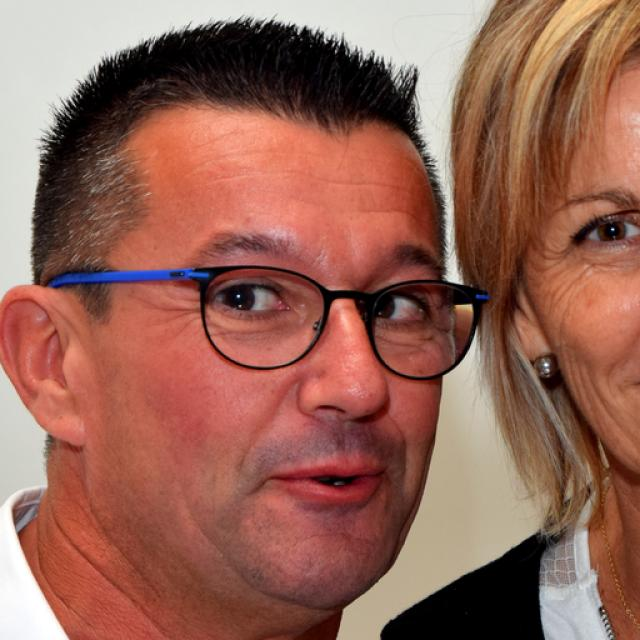Acne: (236, 213, 259, 231)
Wrinkle: (217, 162, 424, 198), (368, 201, 428, 231)
